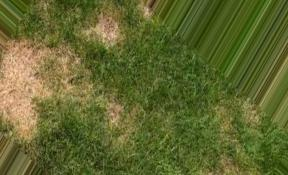patch: (5, 51, 42, 127), (56, 49, 79, 96), (241, 99, 271, 133), (212, 96, 231, 146), (90, 17, 121, 43), (105, 95, 131, 125), (206, 155, 242, 174), (83, 76, 93, 97), (44, 84, 55, 96)
